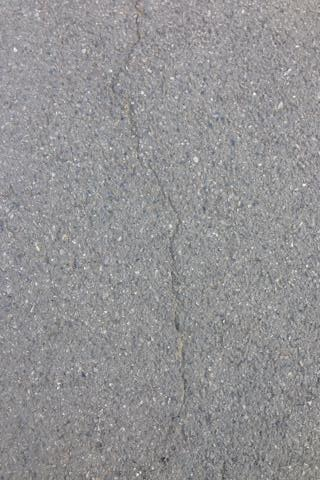A: (113, 16, 232, 480)
